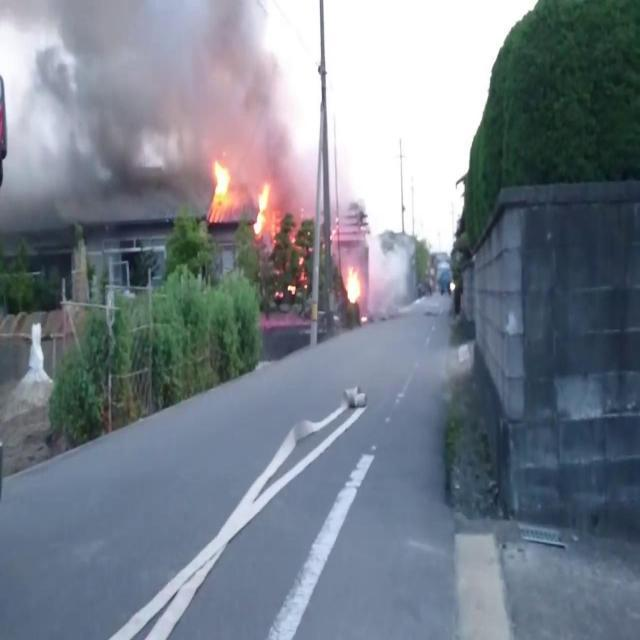Fire: (272, 230, 311, 305), (251, 184, 271, 234), (210, 154, 230, 196), (346, 266, 361, 304)
Smoke: (4, 0, 288, 165), (364, 226, 408, 315), (276, 168, 317, 220)
